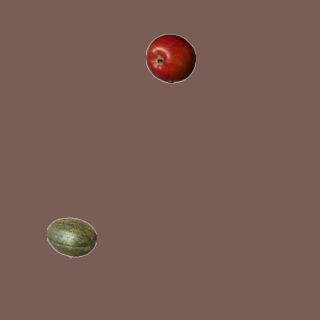Apple Braeburn: (145, 33, 195, 83)
Melon Piel de Sapo: (46, 212, 96, 262)
